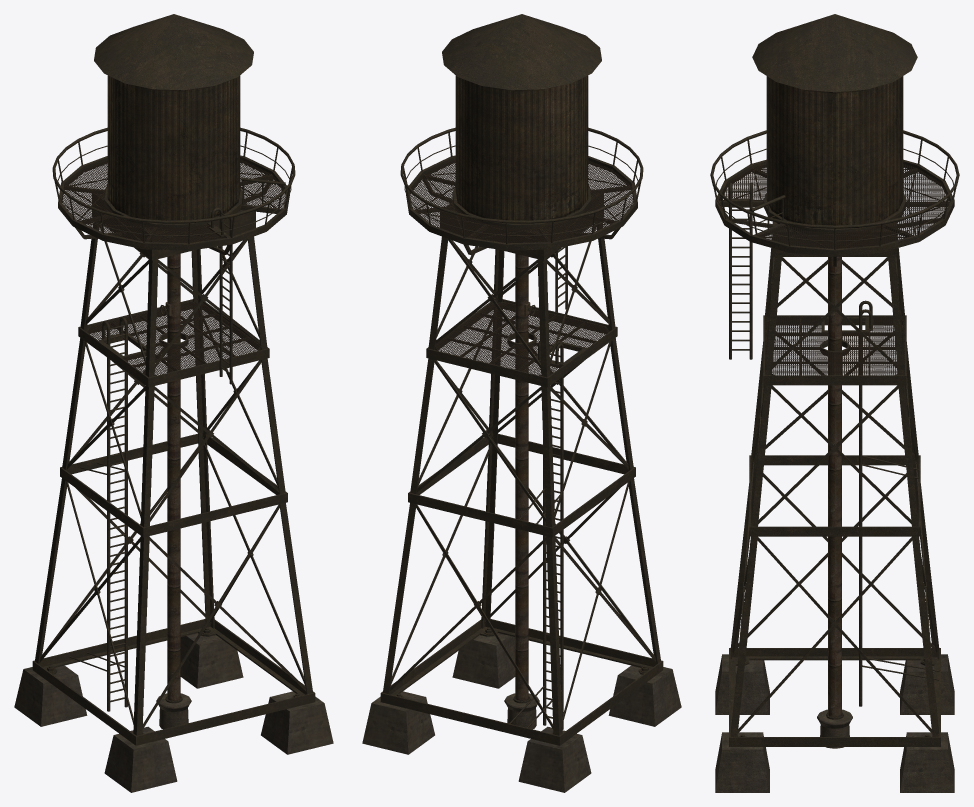
File: water_tower_hm_1.obj
3 renders of one model, left to right at view 1: azimuth 30°, elevation 25°; view 2: azimuth 150°, elevation 25°; view 3: azimuth 270°, elevation 25°, orthographic. The views are drawn at different scales.
Visible parts, largest first — view 1: water_tower_hm_1; view 2: water_tower_hm_1; view 3: water_tower_hm_1.
Boxes of the visible parts, x1,y1,x2,y2 form: water_tower_hm_1: [14, 14, 333, 792]; water_tower_hm_1: [362, 14, 681, 792]; water_tower_hm_1: [710, 14, 959, 792].
Size of the model in its own units: 7.29 by 23.5 by 7.29.
